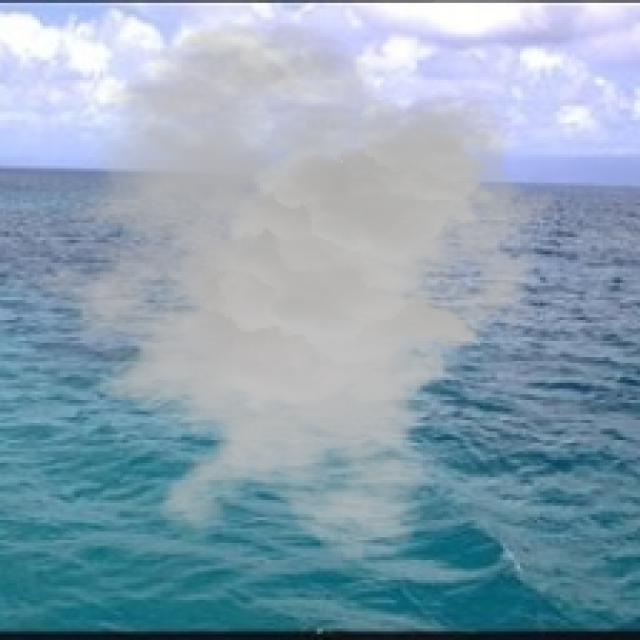smoke: (9, 20, 557, 563)
